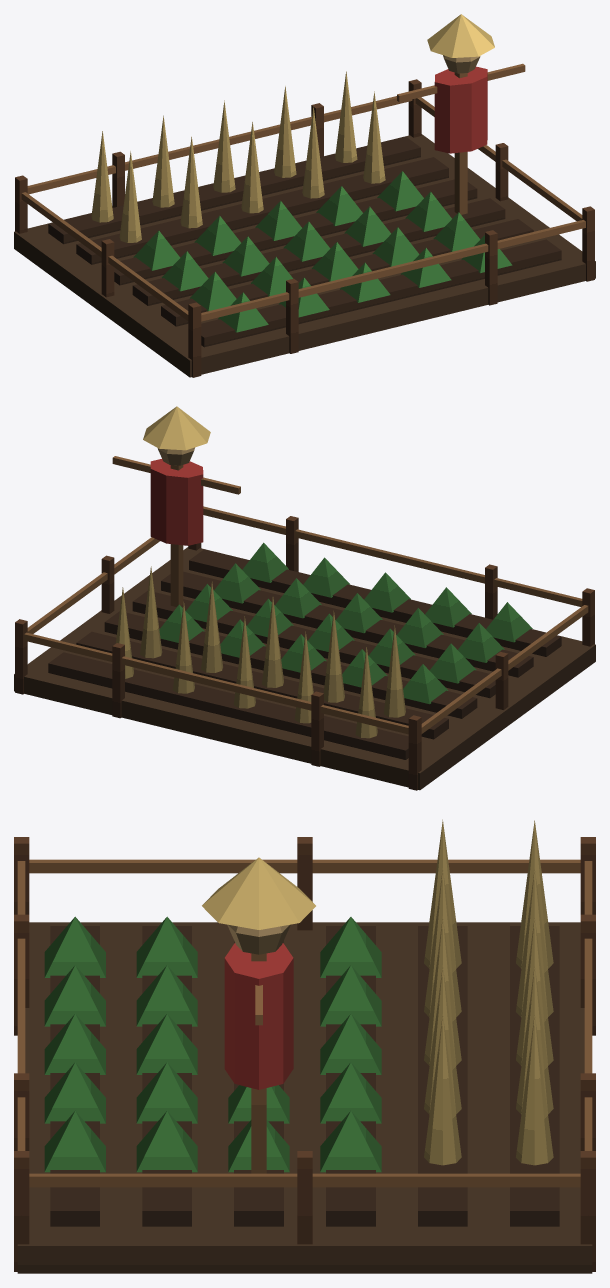
File: farm.glb
3 renders of one model, top to bottom at view 1: azimuth 30°, elevation 25°; view 2: azimuth 150°, elevation 25°; view 3: azimuth 270°, elevation 25°, orthographic. The views are drawn at different scales.
Size of the model in its own units: 2.01 by 1.06 by 1.52.
1 material, 1 textured.
